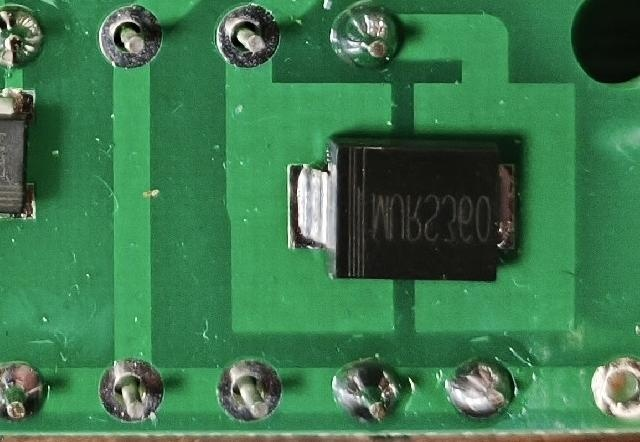diode: (279, 126, 525, 286)
